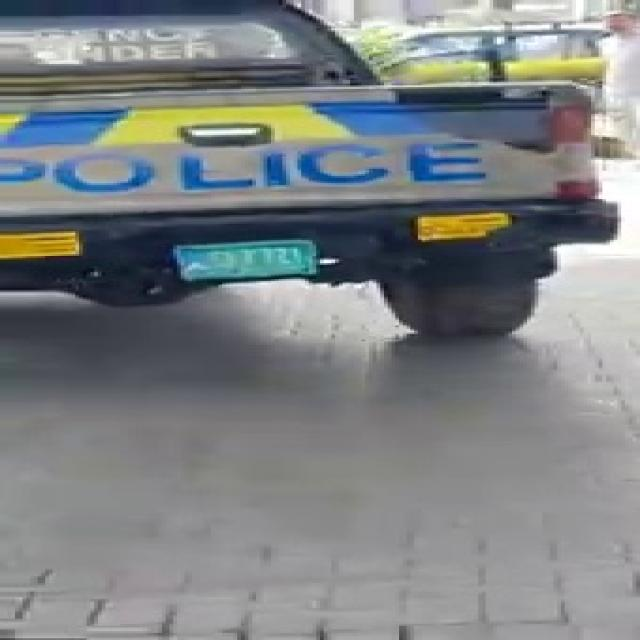police: (7, 0, 636, 300)
